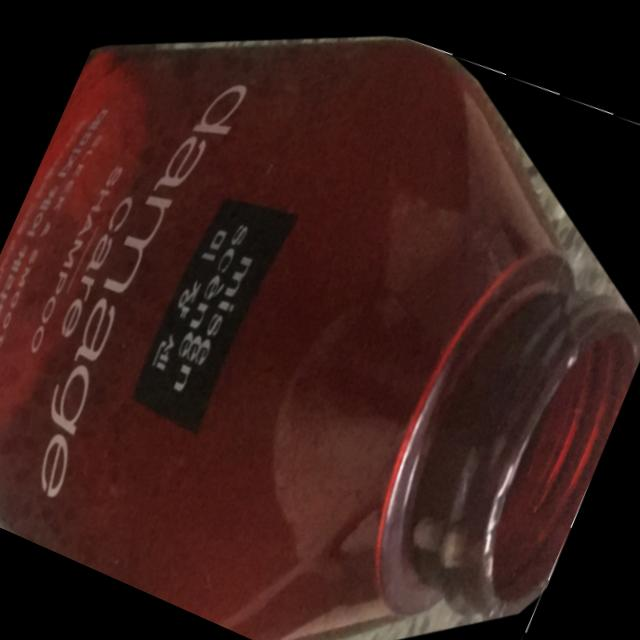plastic: (0, 32, 640, 640)
